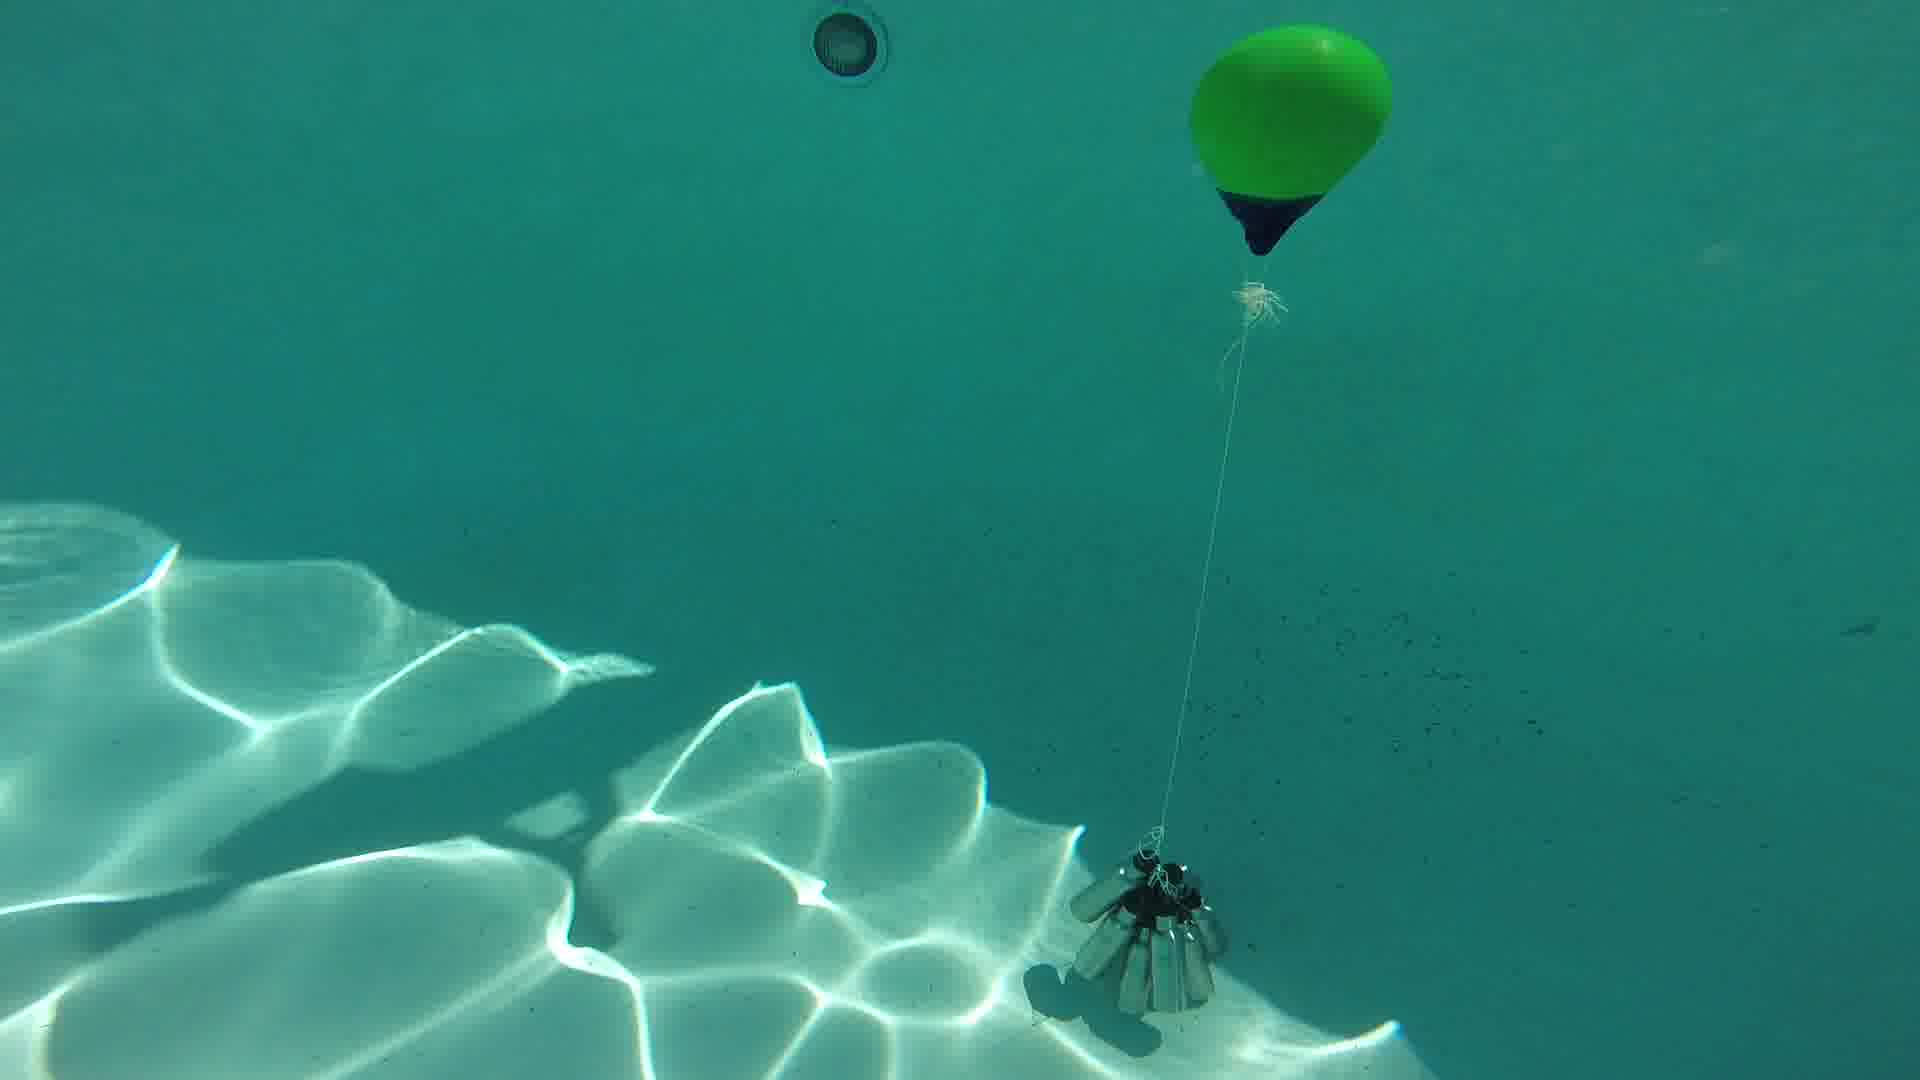yellow_buoy: (1191, 24, 1396, 258)
